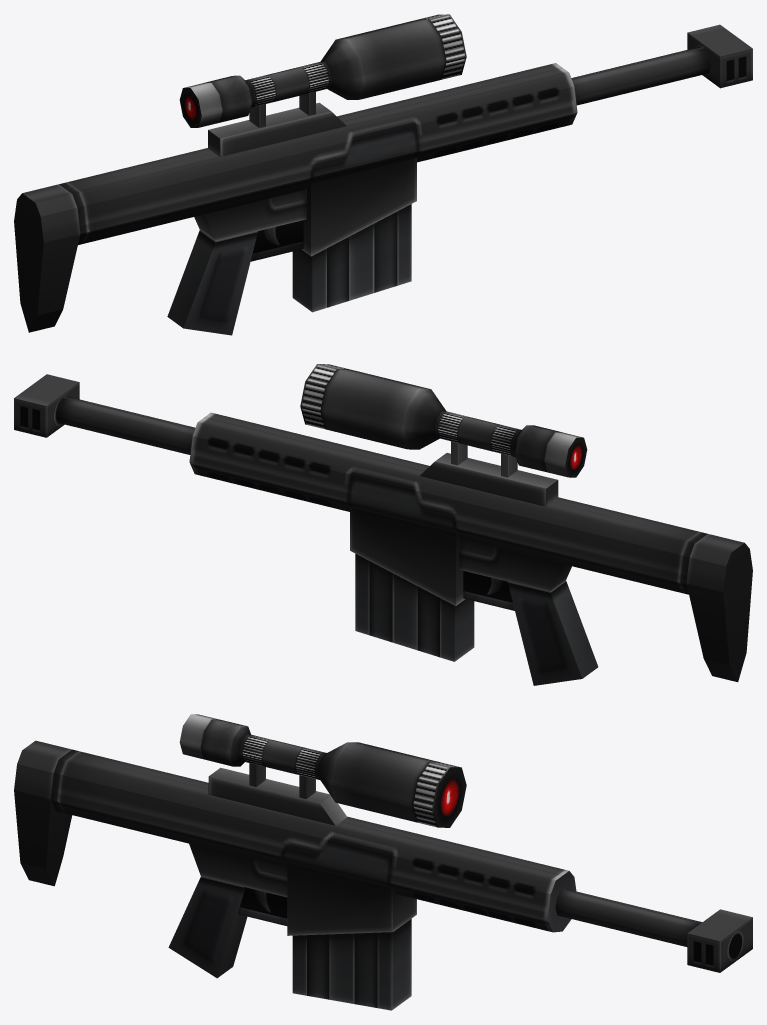
Rendered from barrett kal 50.FBX.
The picture shows the model from 3 angles, top to bottom: view 1: azimuth 30°, elevation 25°; view 2: azimuth 150°, elevation 25°; view 3: azimuth 330°, elevation 25°; orthographic projection.
Parts seen in each view (by area): view 1: Object111; view 2: Object111; view 3: Object111.
Part boxes in pixels (x1,y1,x2,y2): Object111: [14, 14, 752, 335]; Object111: [14, 364, 752, 685]; Object111: [14, 714, 752, 1010].
Bounding box in the file's own units: 120 × 42.16 × 9.81.
